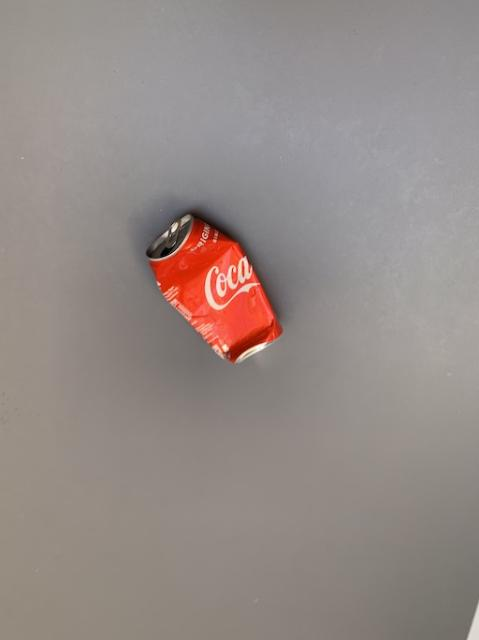metal: (145, 214, 281, 361)
